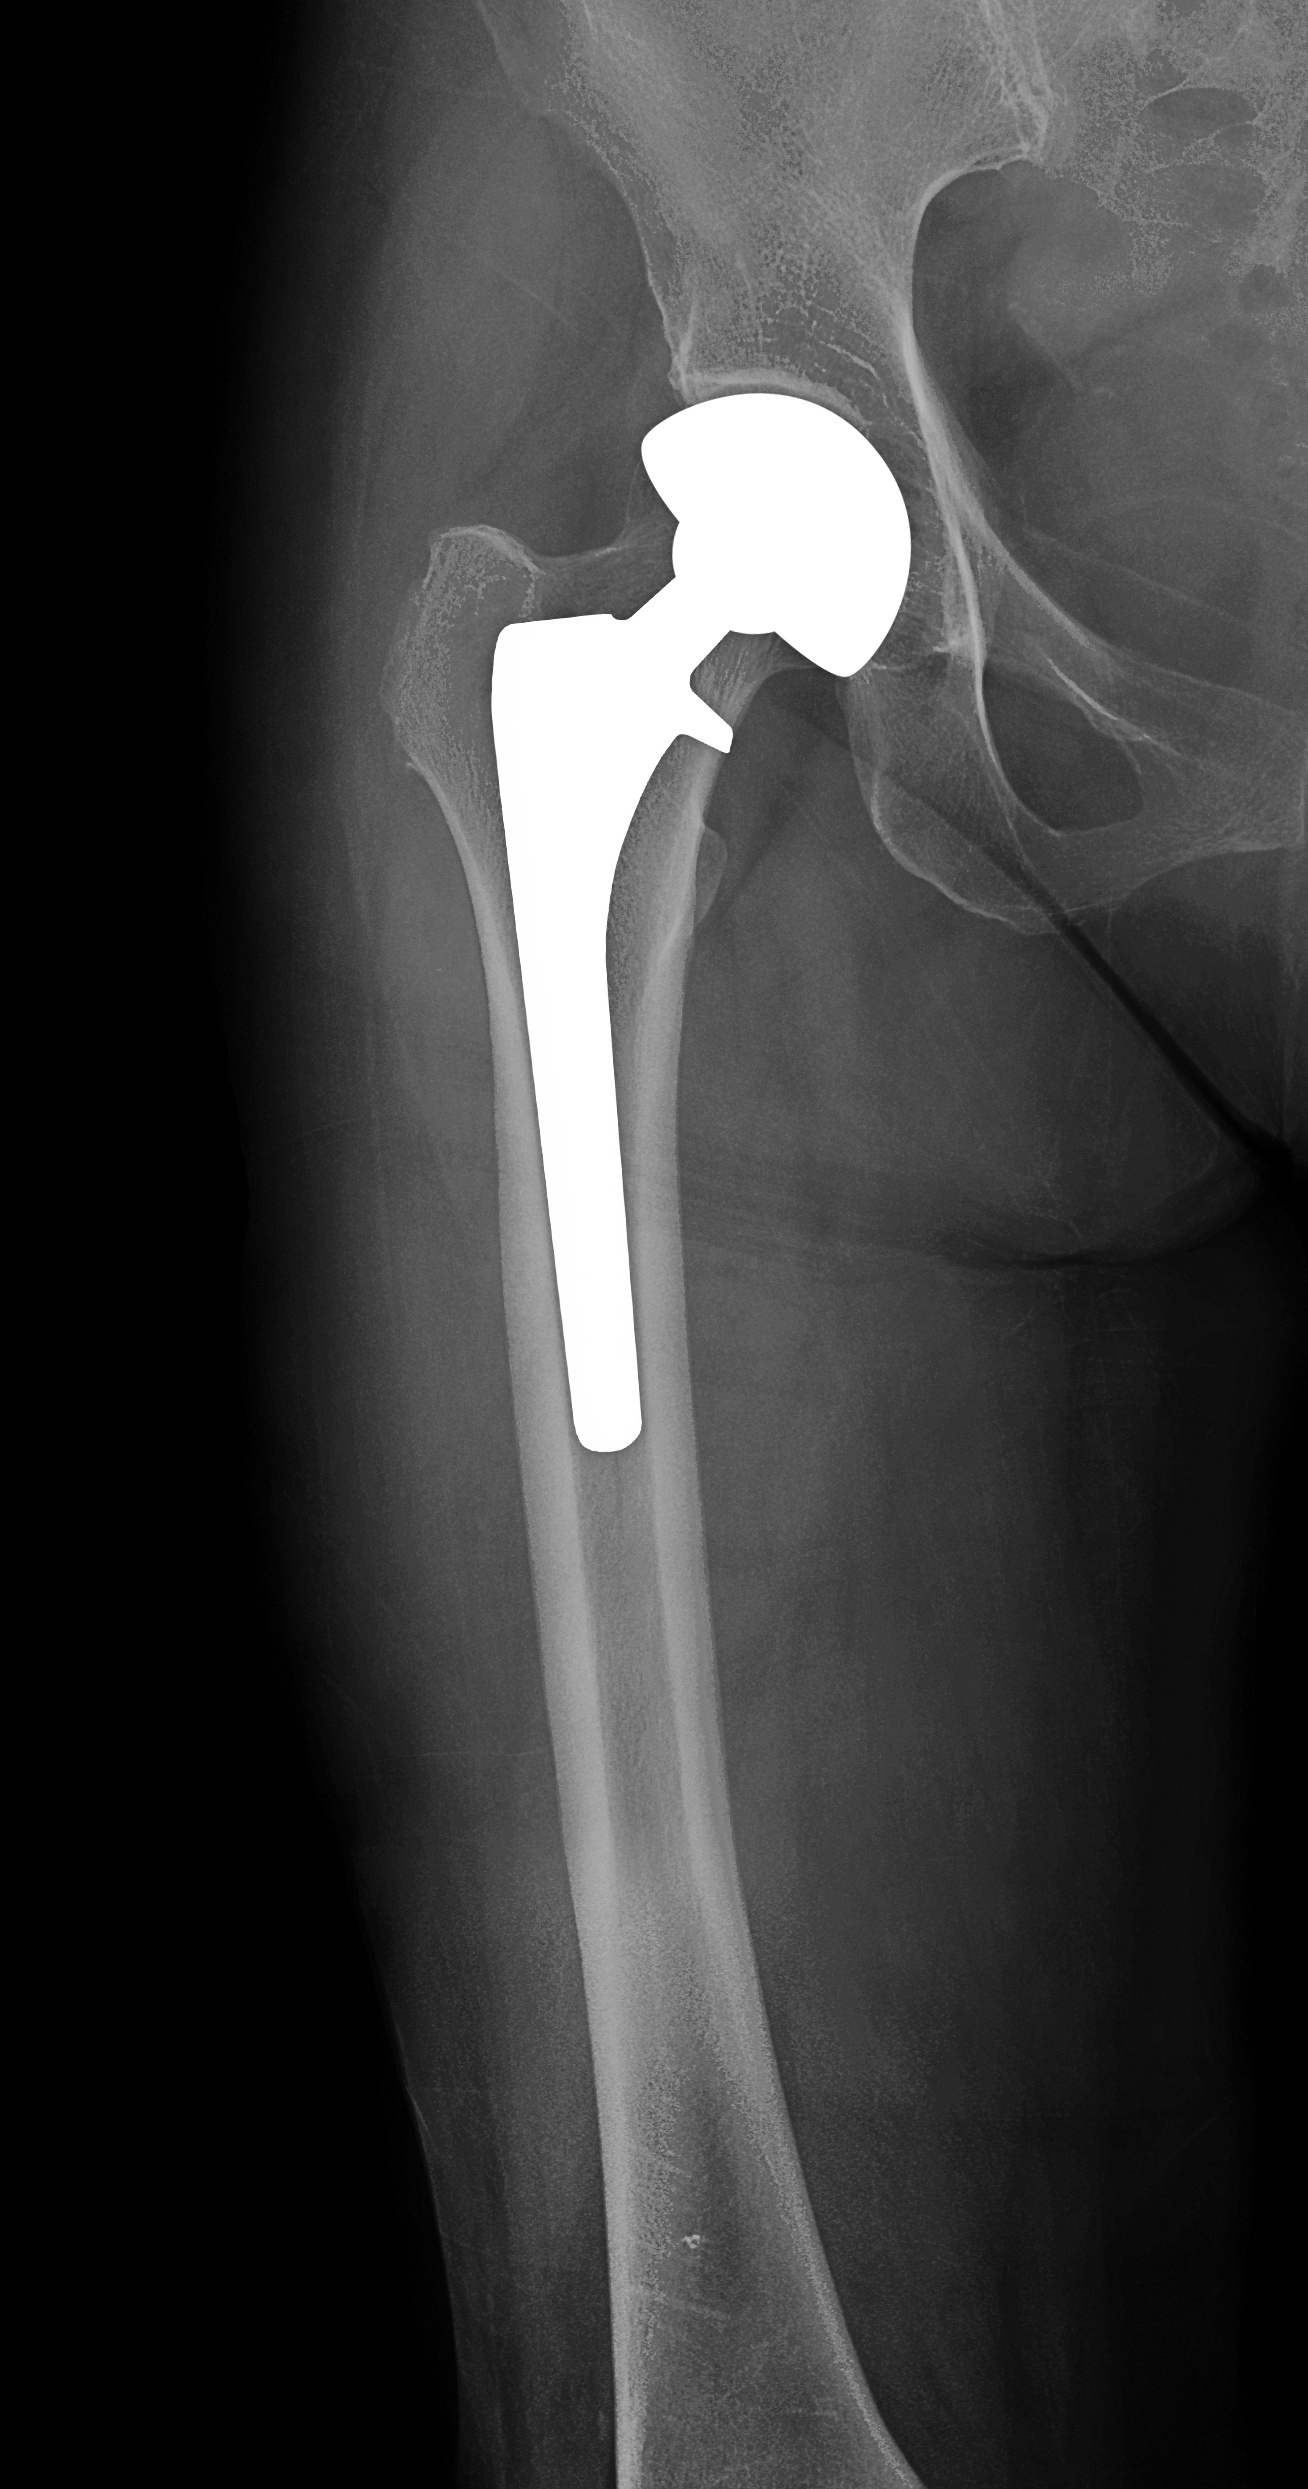Hip - APR - Zimmer: (443, 365, 926, 1486)
